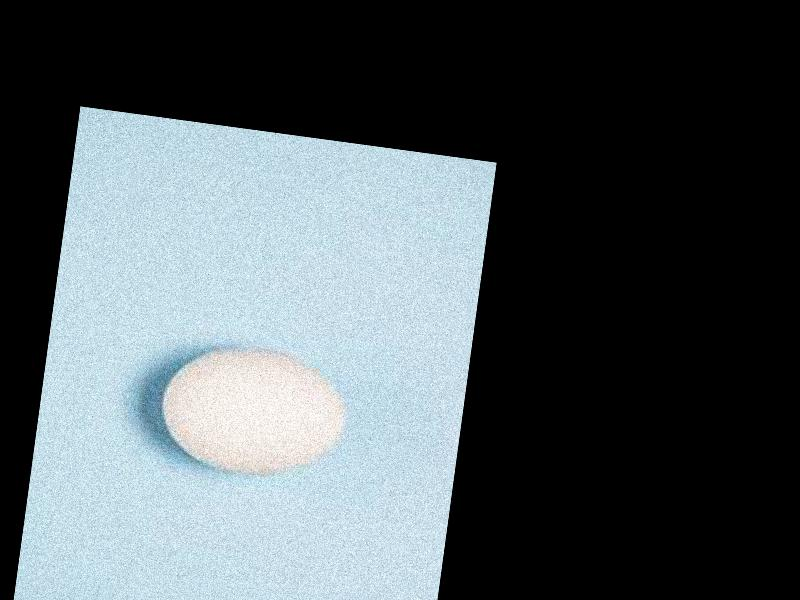Eggs: (154, 336, 355, 484)
